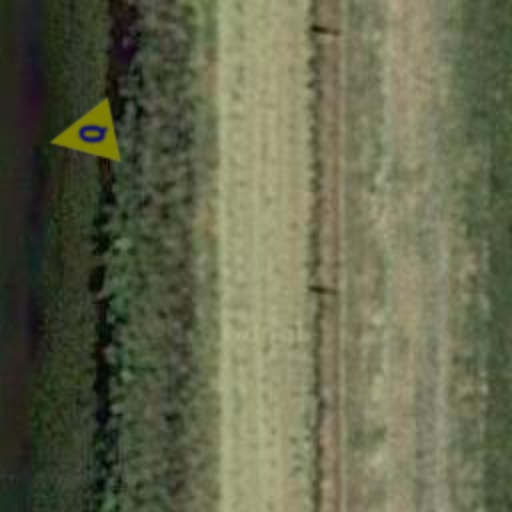triangle: (42, 96, 122, 176)
